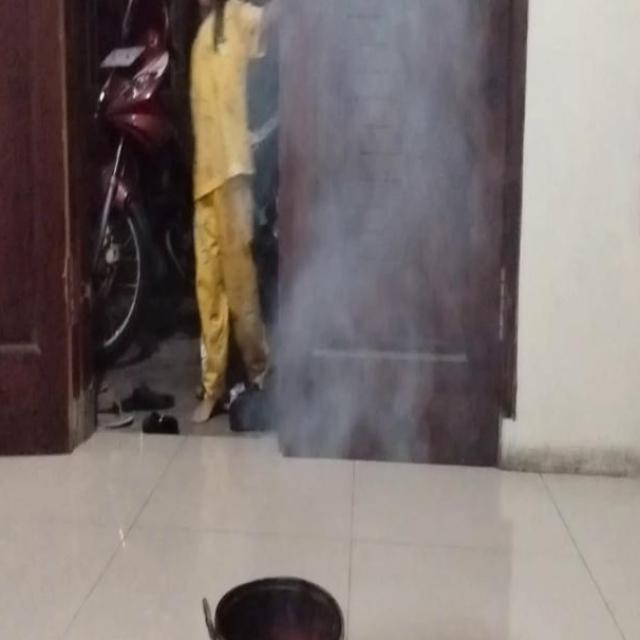fire: (258, 0, 480, 459)
